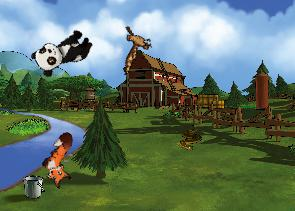eagle: (111, 20, 158, 75)
fox: (33, 129, 91, 191)
panda: (29, 23, 96, 80)
